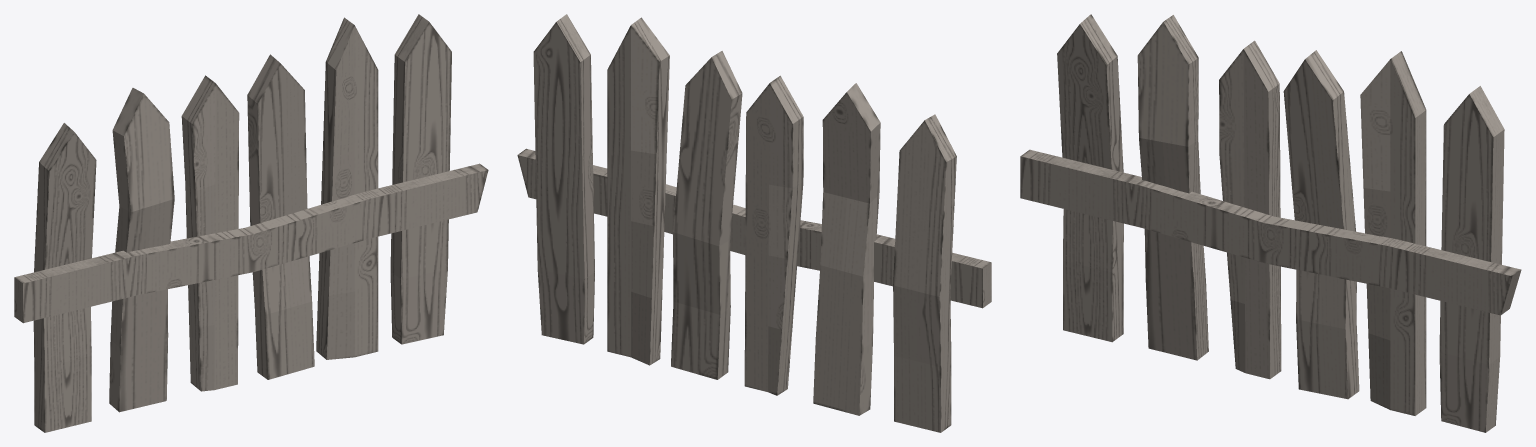
Rendered from fence_collection_2.fbx.
The picture shows the model from 3 angles, left to right: view 1: azimuth 30°, elevation 25°; view 2: azimuth 150°, elevation 25°; view 3: azimuth 330°, elevation 25°; orthographic projection. The views are drawn at different scales.
Parts seen in each view (by area): view 1: fence_cokllection_2; view 2: fence_cokllection_2; view 3: fence_cokllection_2.
Boxes of the visible parts, x1,y1,x2,y2 form: fence_cokllection_2: (14, 14, 488, 432); fence_cokllection_2: (517, 14, 991, 432); fence_cokllection_2: (1020, 14, 1521, 432).
Bounding box in the file's own units: 307 × 211 × 27.89.
